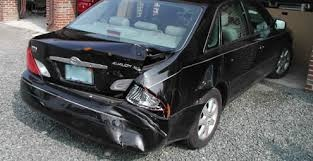Broken-glass: (109, 77, 168, 111)
Dent: (100, 44, 181, 152)
